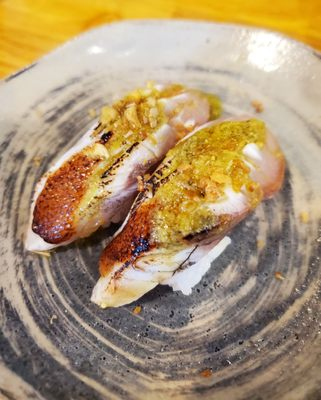curry: (1, 31, 316, 398)
sandwich: (92, 116, 286, 309)
